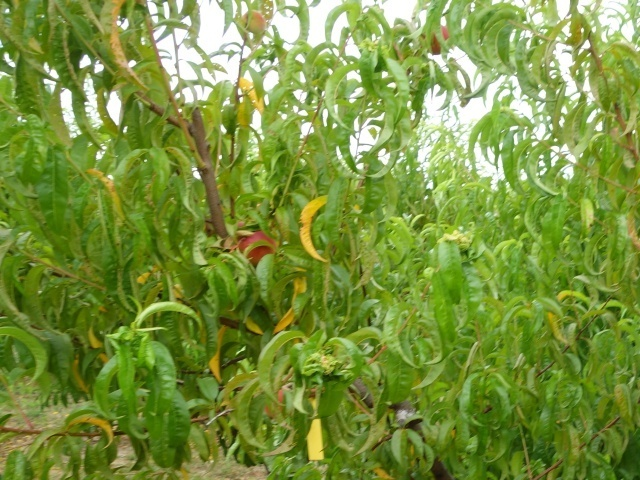peach: (231, 220, 279, 271), (420, 23, 452, 57), (237, 9, 268, 37)
